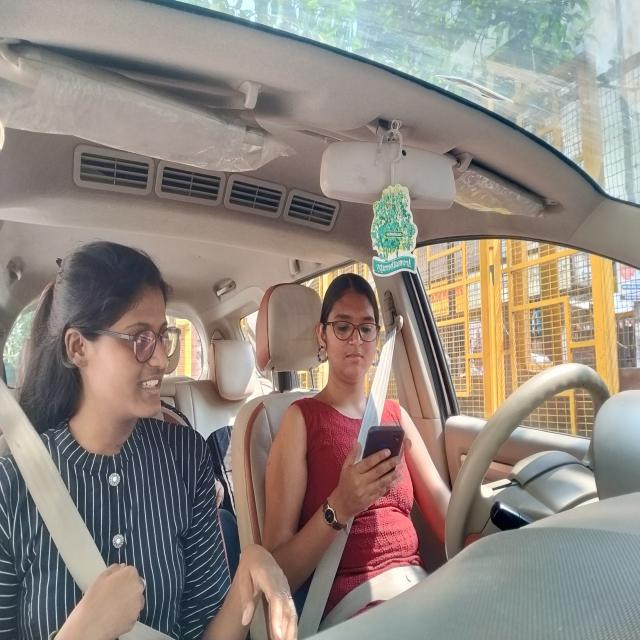mobile: (366, 412, 410, 512)
person: (27, 227, 190, 466), (312, 266, 400, 397)
